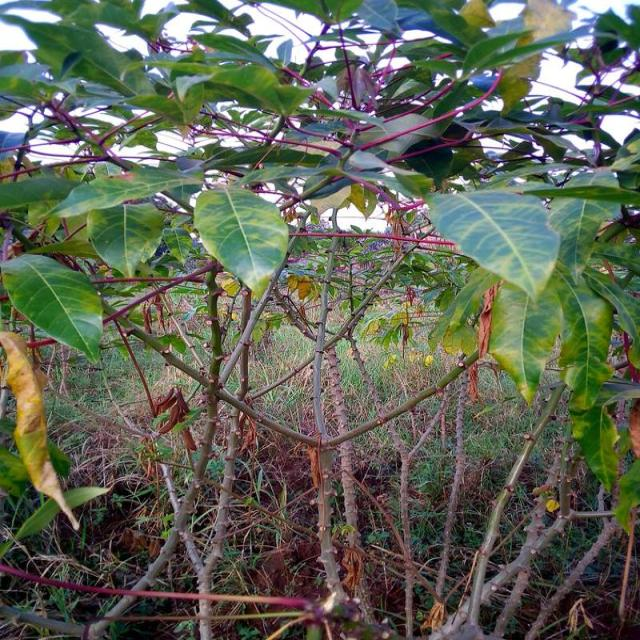cassava leaf: (426, 188, 562, 301), (1, 252, 104, 365), (194, 184, 290, 298), (87, 200, 166, 278)
